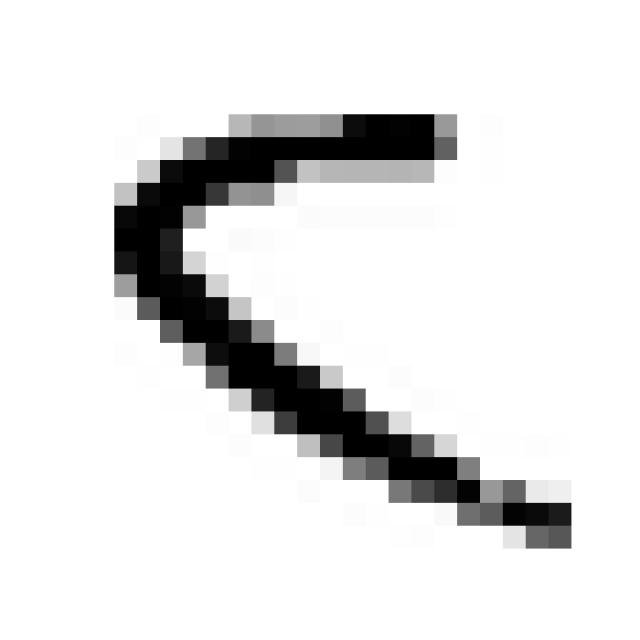2 -two-: (89, 80, 594, 572)
